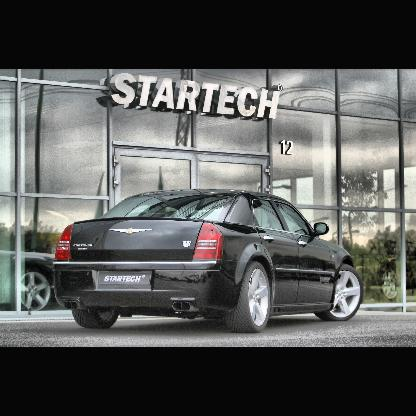Chrysler 300 SRT-8 2010: (49, 178, 377, 343)
